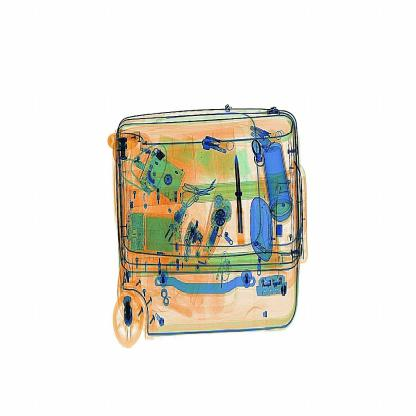gun: (227, 152, 251, 254)
